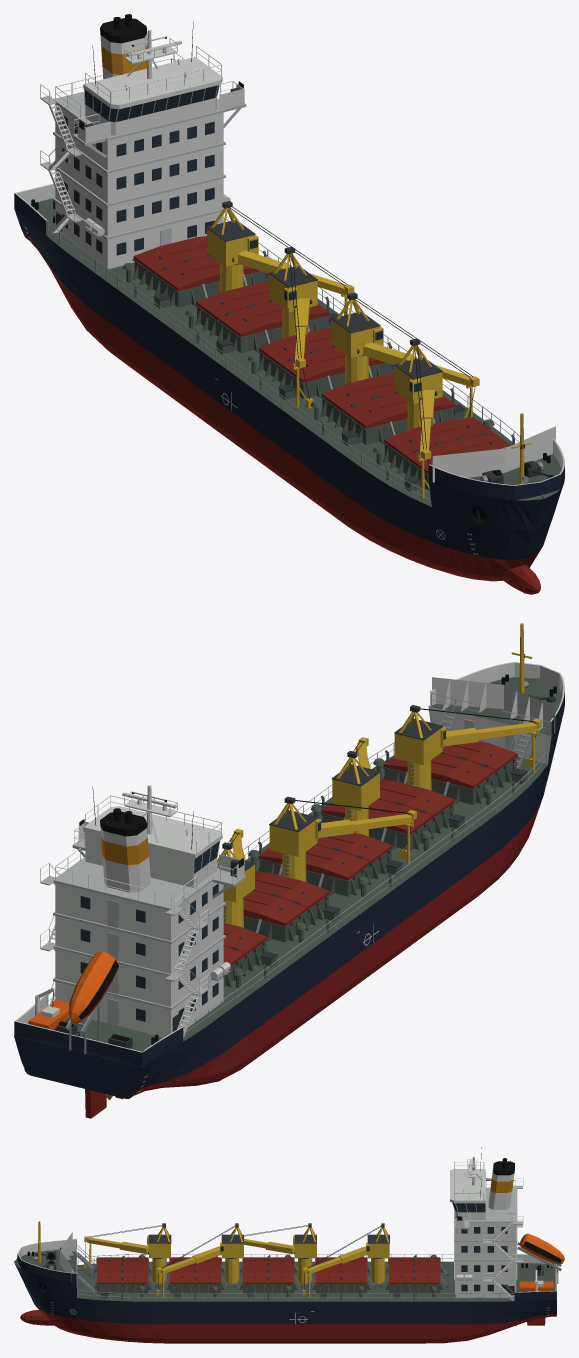
Rendered from bulker_mid.glb.
3 renders of one model, top to bottom at view 1: azimuth 30°, elevation 25°; view 2: azimuth 150°, elevation 25°; view 3: azimuth 270°, elevation 25°, orthographic. The views are drawn at different scales.
Visible parts, largest first — view 1: fixed, hull, deck, hatch, crane, window, glass, funnel; view 2: fixed, hull, deck, hatch, crane, window, funnel; view 3: fixed, hull, deck, hatch, crane, window, glass, funnel.
Part boxes in pixels (box(x1,y1,x2,y2)): fixed: box(14, 14, 564, 594); hull: box(14, 193, 564, 559); deck: box(30, 198, 561, 506); hatch: box(133, 236, 511, 474); crane: box(207, 208, 479, 498); window: box(62, 115, 214, 255); glass: box(85, 85, 421, 392); funnel: box(101, 45, 147, 74); fixed: box(14, 623, 564, 1118); hull: box(14, 692, 564, 1098); deck: box(16, 677, 562, 1067); hatch: box(223, 741, 517, 966); crane: box(217, 711, 541, 927); window: box(80, 883, 218, 1021); funnel: box(101, 837, 148, 865); fixed: box(17, 1147, 564, 1343); hull: box(14, 1254, 556, 1324); deck: box(14, 1248, 556, 1301); hatch: box(96, 1257, 440, 1284); crane: box(84, 1227, 389, 1297); window: box(461, 1227, 507, 1291); glass: box(147, 1203, 485, 1251); funnel: box(491, 1175, 513, 1192).
Bounding box in the file's own units: 12.8 × 22 × 64.95.
